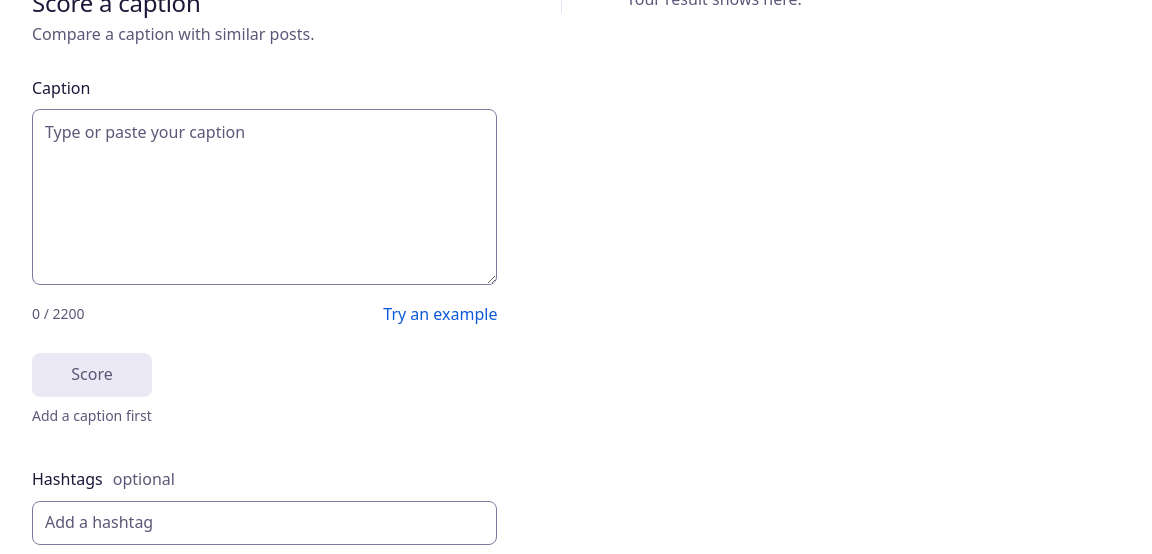
Test: Score page › blocks an invalid duration with a reason
Type "hello" into the text box labelled "Caption".
click(265, 197); type("hello")  # box [32,109,498,285]
(page scrolled)
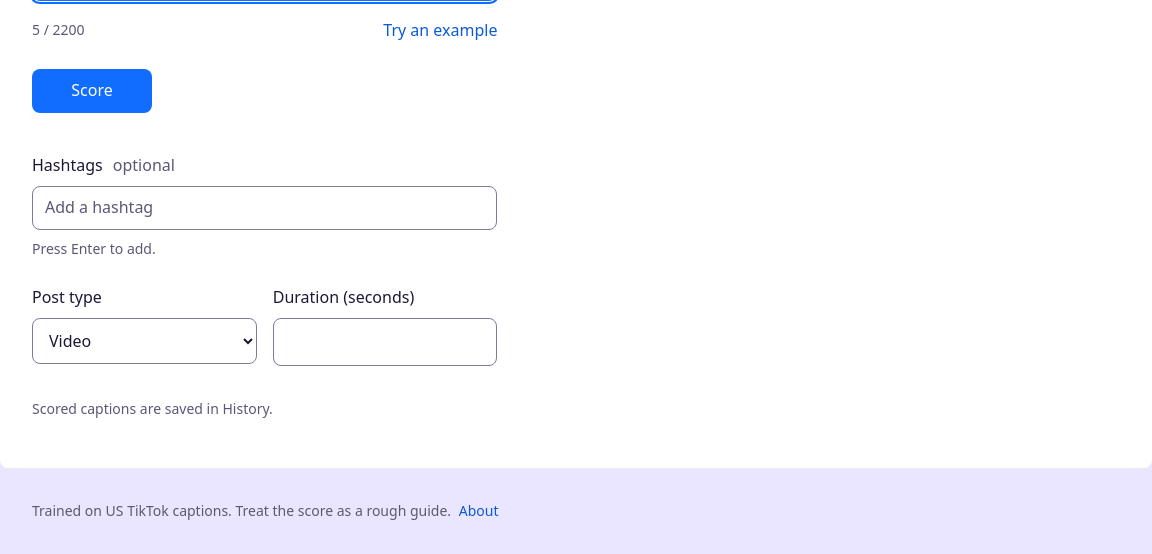
Type "0" into the number field labelled "Duration (seconds)".
click(385, 342); type("0")  # box [273,318,497,366]
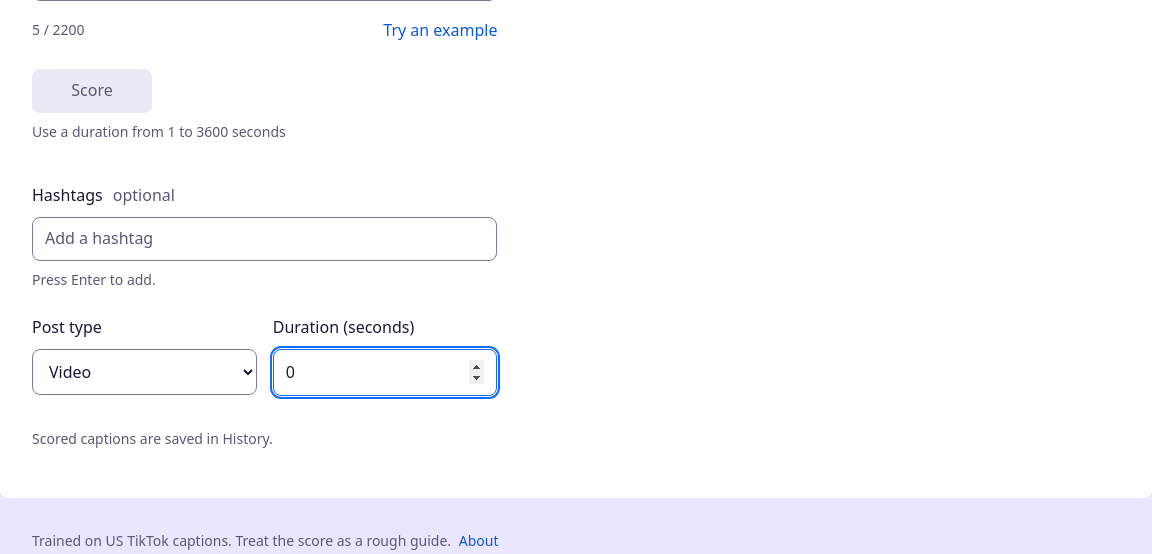
Expected: the button "Score" is disabled, [32,68,152,112]
Expected: the text "Use a duration from 1 to 3600 seconds" is shown, [32,122,286,140]
